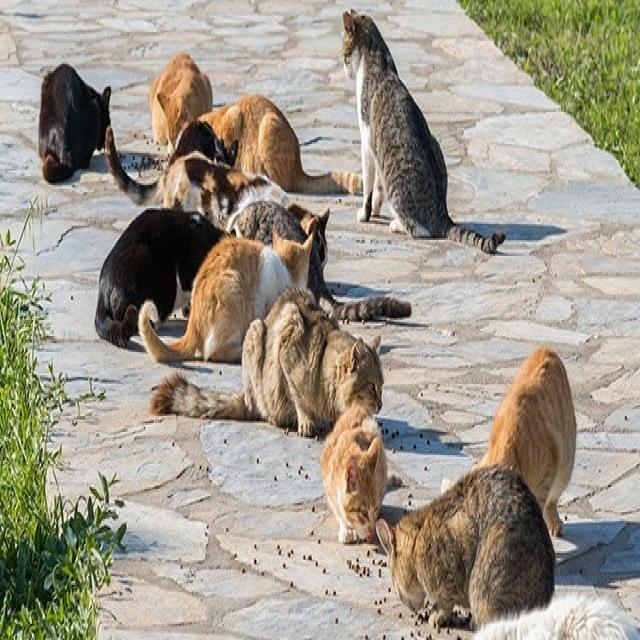cat: (342, 11, 505, 252), (151, 289, 384, 436), (376, 469, 555, 627), (139, 220, 316, 362), (226, 200, 411, 321), (95, 209, 222, 346), (481, 347, 576, 512), (201, 96, 361, 193), (321, 402, 402, 543), (105, 120, 238, 203), (162, 153, 288, 228), (39, 64, 111, 181), (149, 51, 212, 152)
